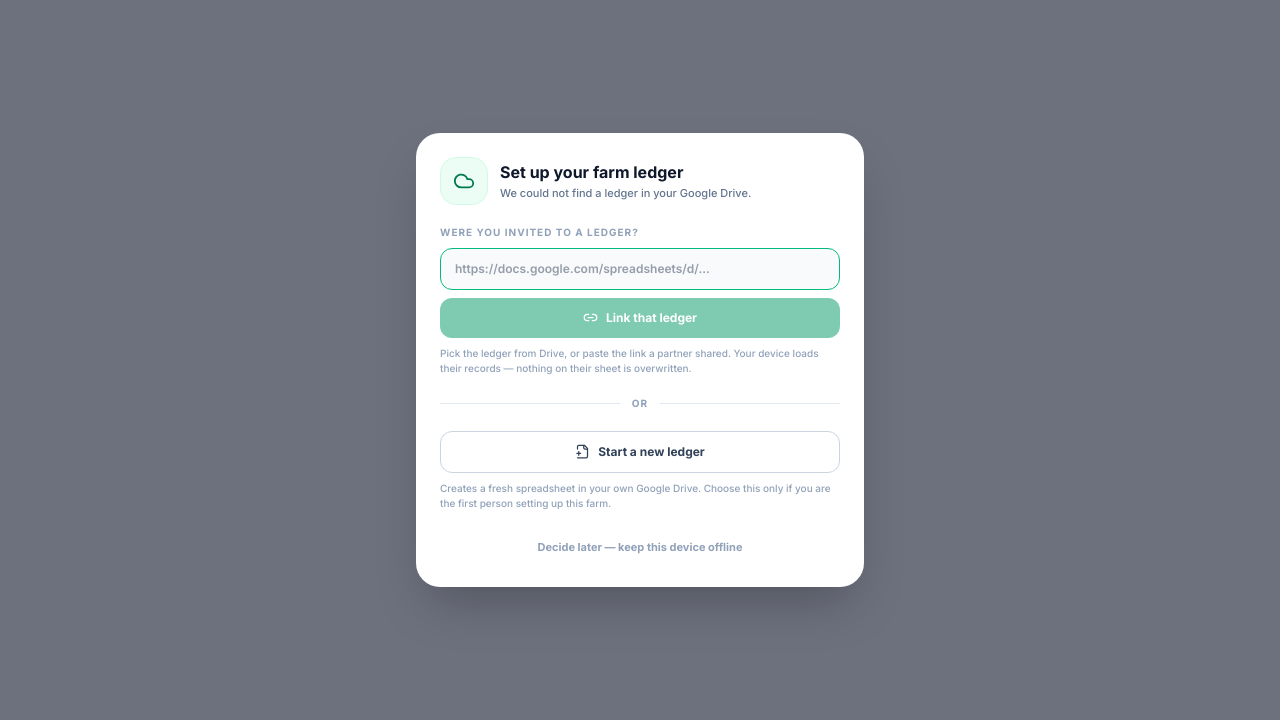
it: SheetSetupModal › reports why creating a ledger failed
The image size is (1280, 720).
What coordinates should you click on to do the following:
click the button "Start a new ledger"
I would click on:
 (640, 452)
Its box is [440, 431, 840, 473].
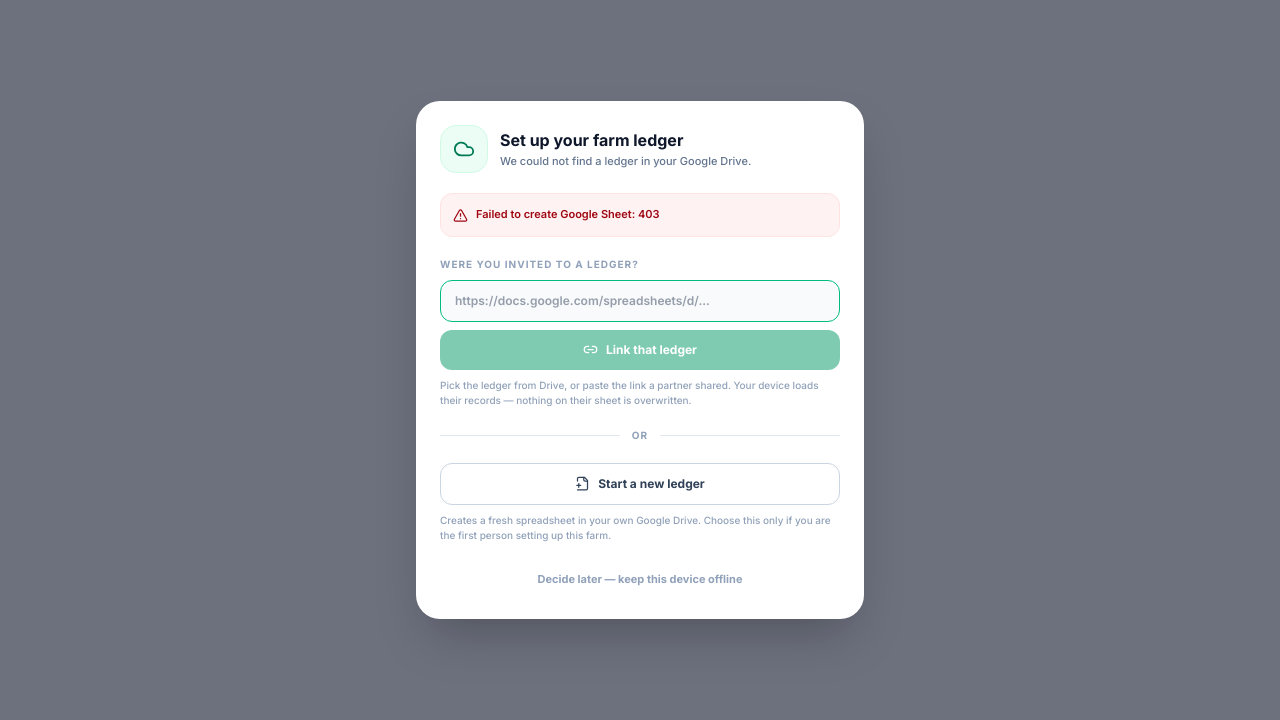
Now the message shows "403", box [476, 207, 660, 221]
